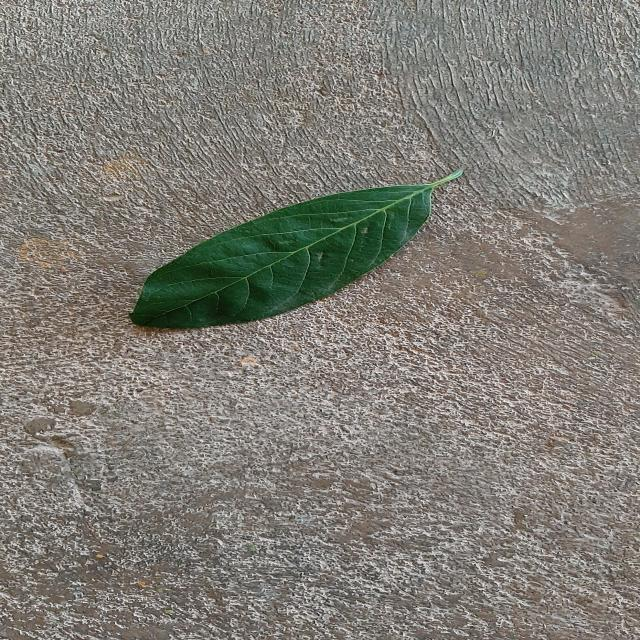seethaphala: (130, 171, 461, 328)
